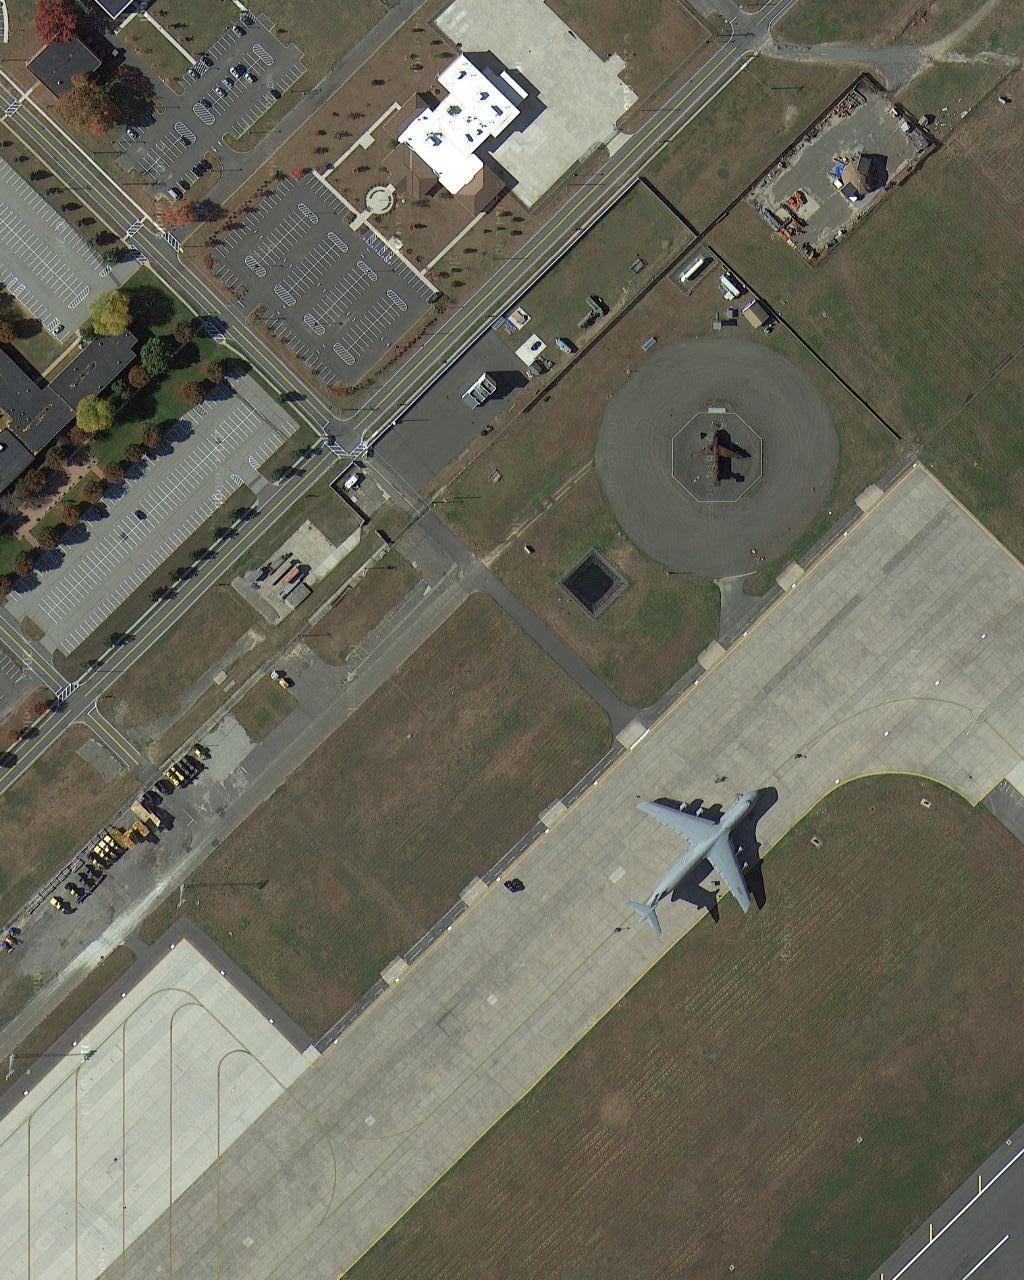KC-135: (621, 779, 779, 941)
